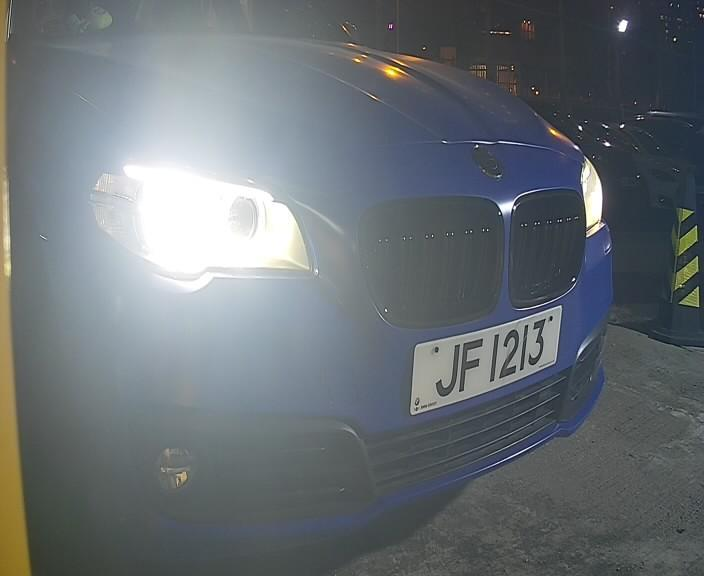privatecar: (2, 1, 624, 547)
